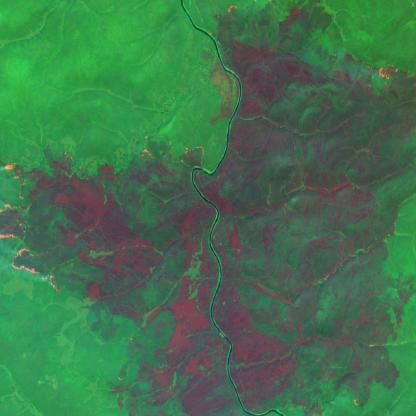fire: (0, 152, 67, 298), (135, 127, 209, 173), (362, 54, 410, 95), (223, 0, 241, 22)
